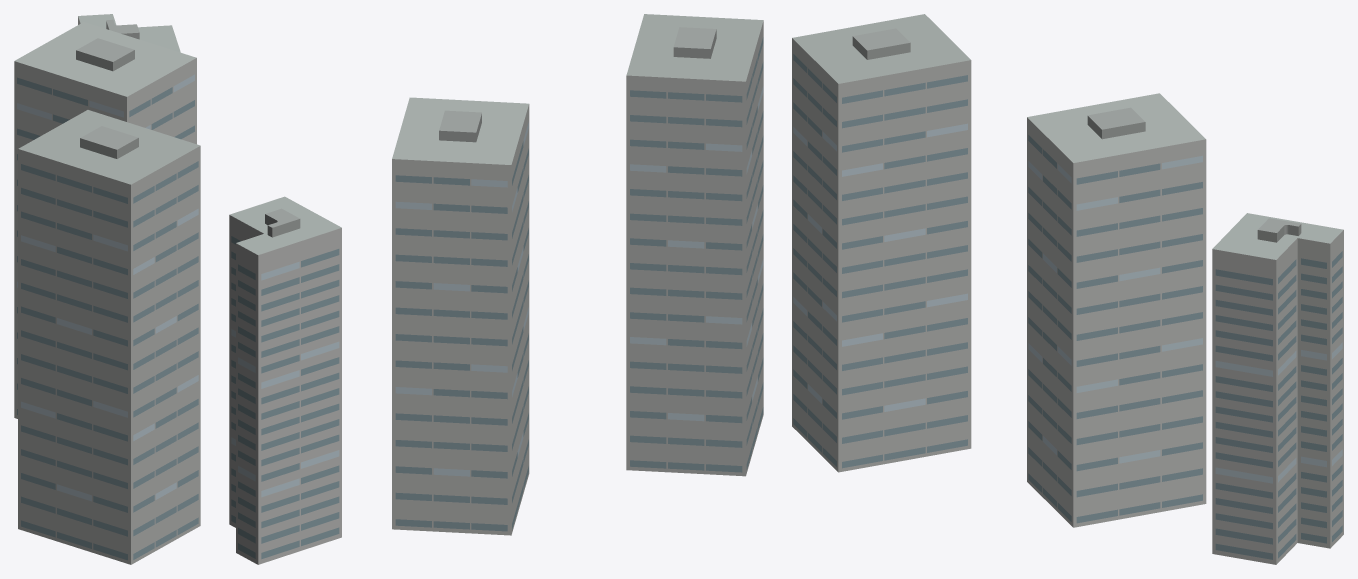
The model's file is apt-a14010003.glb.
3 renders of one model, left to right at view 1: azimuth 30°, elevation 25°; view 2: azimuth 150°, elevation 25°; view 3: azimuth 270°, elevation 25°, orthographic. The views are drawn at different scales.
Parts seen in each view (by area): view 1: apt-a14010003; view 2: apt-a14010003; view 3: apt-a14010003.
Boxes of the visible parts, box(x1,y1,x2,y2) form: apt-a14010003: box(14, 14, 200, 564); apt-a14010003: box(229, 14, 763, 564); apt-a14010003: box(792, 14, 1343, 564).
Size of the model in its own units: 87.52 by 100 by 126.
